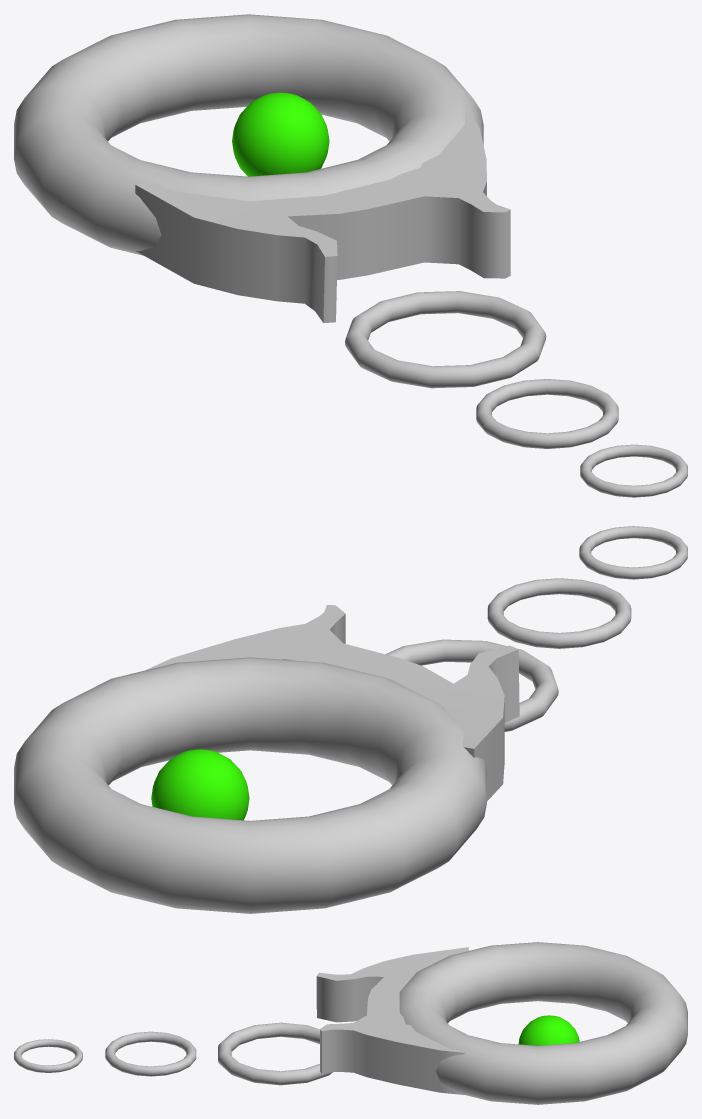
The model's file is Student3_xLab_Daniel.fbx.
The picture shows the model from 3 angles, top to bottom: view 1: azimuth 30°, elevation 25°; view 2: azimuth 150°, elevation 25°; view 3: azimuth 270°, elevation 25°; orthographic projection. The views are drawn at different scales.
Parts seen in each view (by area): view 1: Torus, Cube, Ring_1, Sphere, Ring, Ring_2; view 2: Torus, Cube, Sphere, Ring, Ring_1, Ring_2; view 3: Torus, Cube, Ring_1, Ring, Sphere, Ring_2.
Part boxes in pixels (x1=…): Torus: x1=14, y1=14, x2=483, y2=255; Cube: x1=135, y1=111, x2=510, y2=323; Ring_1: x1=345, y1=291, x2=546, y2=388; Sphere: x1=232, y1=92, x2=329, y2=176; Ring: x1=476, y1=379, x2=618, y2=448; Ring_2: x1=580, y1=444, x2=687, y2=497; Torus: x1=14, y1=657, x2=486, y2=913; Cube: x1=146, y1=605, x2=519, y2=801; Sphere: x1=151, y1=749, x2=249, y2=820; Ring: x1=487, y1=578, x2=631, y2=648; Ring_1: x1=386, y1=639, x2=558, y2=731; Ring_2: x1=579, y1=526, x2=687, y2=579; Torus: x1=399, y1=942, x2=687, y2=1104; Cube: x1=316, y1=947, x2=468, y2=1094; Ring_1: x1=218, y1=1022, x2=332, y2=1085; Ring: x1=105, y1=1031, x2=196, y2=1076; Sphere: x1=518, y1=1015, x2=579, y2=1045; Ring_2: x1=14, y1=1039, x2=82, y2=1072.
Bounding box in the file's own units: 1618 × 380 × 3578.
